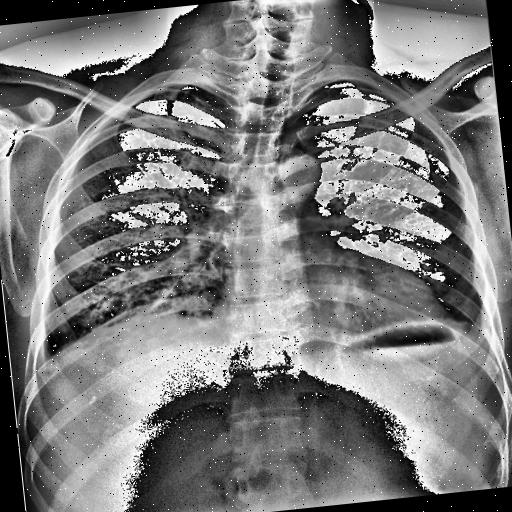0- Aortic enlargement: (258, 148, 322, 205), (267, 152, 323, 202)
10- Pleural effusion: (450, 314, 500, 369), (460, 317, 494, 353), (28, 335, 58, 374), (28, 346, 56, 374)
11- Pleural thickening: (450, 314, 500, 369), (460, 317, 494, 353), (28, 335, 58, 374), (28, 346, 56, 374)
13- Pulmonary fibrosis: (146, 271, 189, 314), (146, 279, 182, 315)
3- Cardiomegaly: (203, 253, 452, 362)
6- Infiltration: (126, 238, 232, 324)
